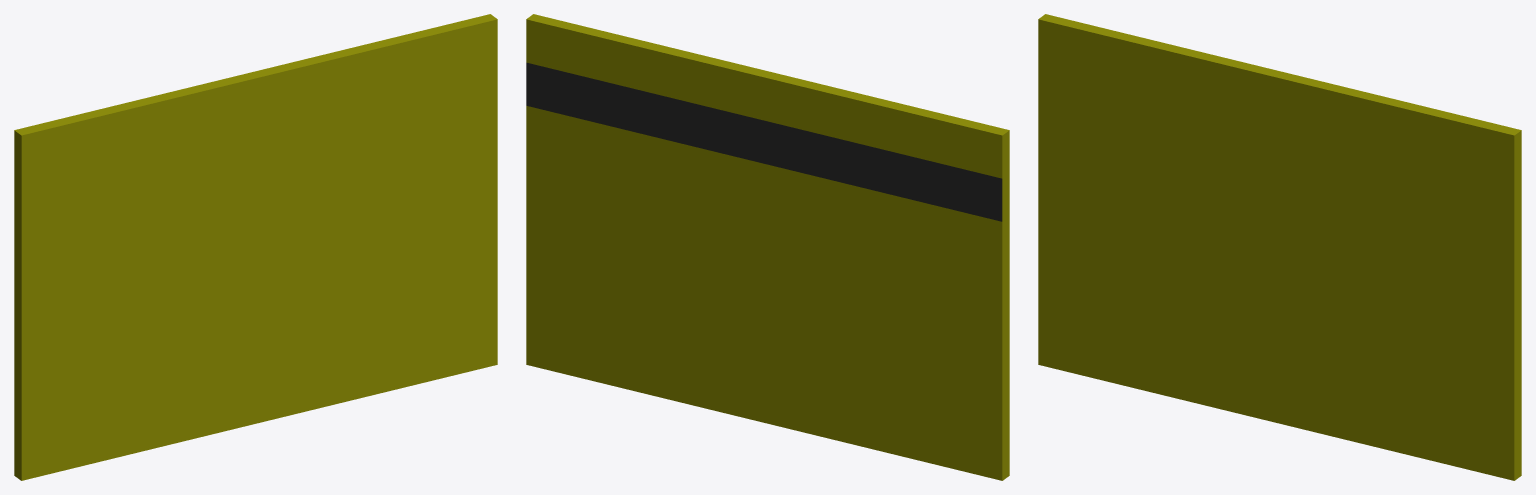
File: Keycard.fbx
3 views of the same model, side by side, from view 1: azimuth 30°, elevation 25°; view 2: azimuth 150°, elevation 25°; view 3: azimuth 330°, elevation 25° (orthographic).
Visible parts, largest first — view 1: StorageKeycard; view 2: StorageKeycard; view 3: StorageKeycard.
Boxes of the visible parts, x1=… form: StorageKeycard: x1=14, y1=14, x2=497, y2=480; StorageKeycard: x1=526, y1=14, x2=1009, y2=480; StorageKeycard: x1=1038, y1=14, x2=1521, y2=480.
Size of the model in its own units: 10.88 by 7.54 by 0.2885.
